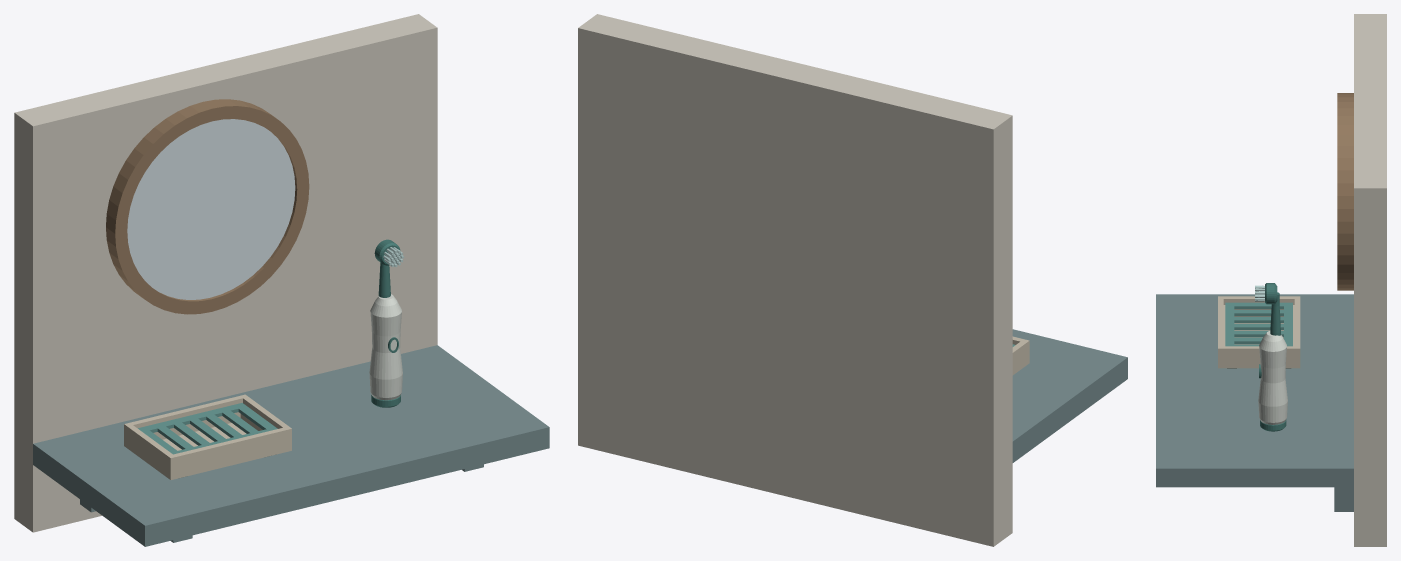
3 renders of one model, left to right at view 1: azimuth 30°, elevation 25°; view 2: azimuth 150°, elevation 25°; view 3: azimuth 270°, elevation 25°, orthographic. The views are drawn at different scales.
Parts seen in each view (by area): view 1: SCENE_ONLY__WallSupportedLedgeAndInsetRoundMirror, soap__WholeSteppedCatchBasinAndContinuousInsetLedge, soap__WholeSixThroughSlotDeckAndOuterFrame, toothbrush__WholeWaistedUprightHandheldHousing; view 2: SCENE_ONLY__WallSupportedLedgeAndInsetRoundMirror; view 3: SCENE_ONLY__WallSupportedLedgeAndInsetRoundMirror, soap__WholeSteppedCatchBasinAndContinuousInsetLedge, soap__WholeSixThroughSlotDeckAndOuterFrame, toothbrush__WholeWaistedUprightHandheldHousing, toothbrush__WholeLongNarrowUpperNeck.
Part boxes in pixels (bbox=[...]): SCENE_ONLY__WallSupportedLedgeAndInsetRoundMirror: bbox=[14, 14, 549, 546]; soap__WholeSteppedCatchBasinAndContinuousInsetLedge: bbox=[124, 394, 291, 479]; soap__WholeSixThroughSlotDeckAndOuterFrame: bbox=[138, 403, 277, 454]; toothbrush__WholeWaistedUprightHandheldHousing: bbox=[369, 294, 402, 400]; SCENE_ONLY__WallSupportedLedgeAndInsetRoundMirror: bbox=[578, 14, 1127, 546]; SCENE_ONLY__WallSupportedLedgeAndInsetRoundMirror: bbox=[1156, 14, 1386, 546]; soap__WholeSteppedCatchBasinAndContinuousInsetLedge: bbox=[1218, 296, 1300, 368]; soap__WholeSixThroughSlotDeckAndOuterFrame: bbox=[1225, 302, 1292, 346]; toothbrush__WholeWaistedUprightHandheldHousing: bbox=[1258, 331, 1287, 424]; toothbrush__WholeLongNarrowUpperNeck: bbox=[1270, 292, 1280, 335].
Bounding box in the file's own units: 0.5 × 0.48 × 0.28.
